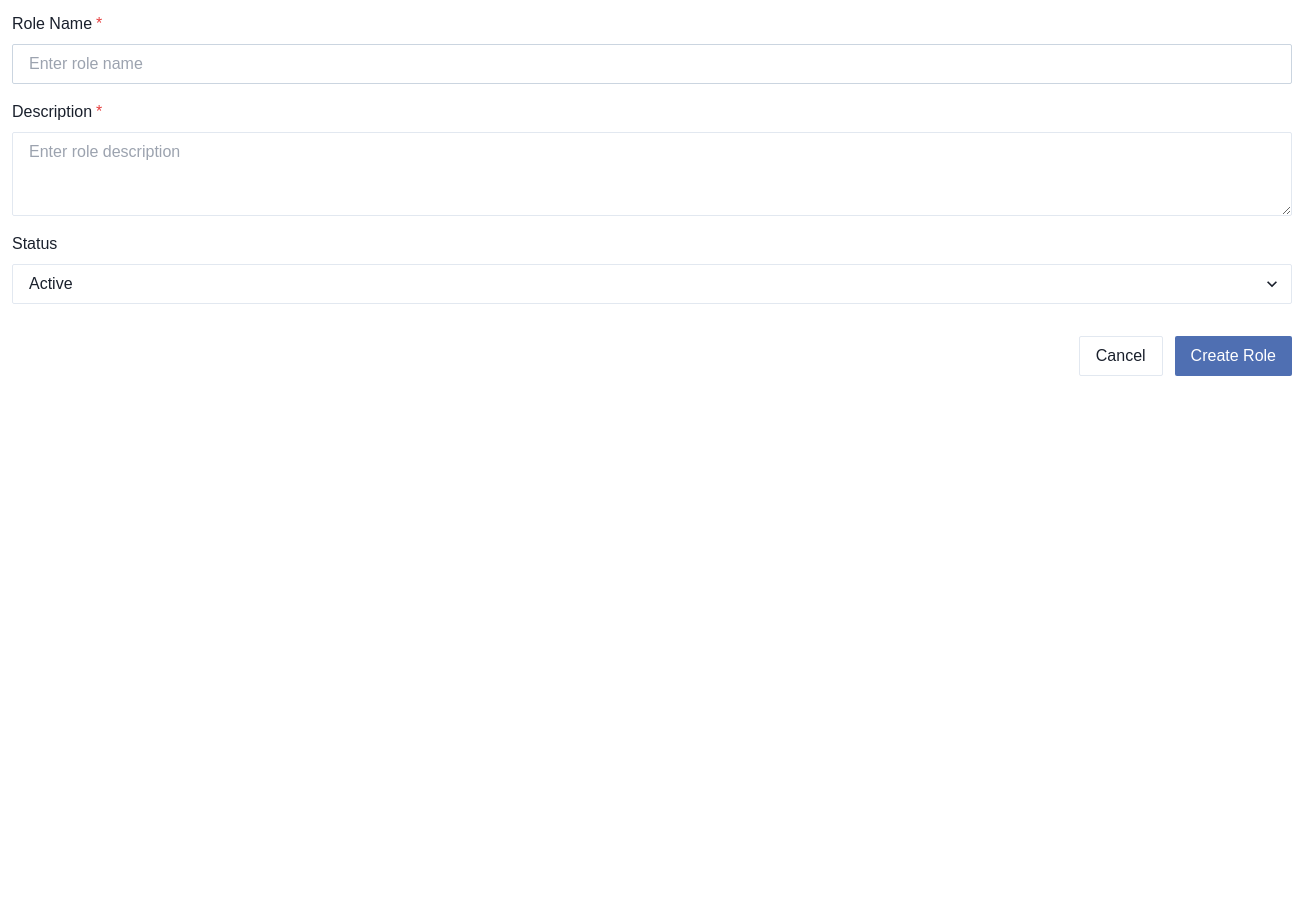
Test case: <RoleForm> › requires a name and description
Click the button "Create Role": (1233, 356) [1175,336,1292,376]
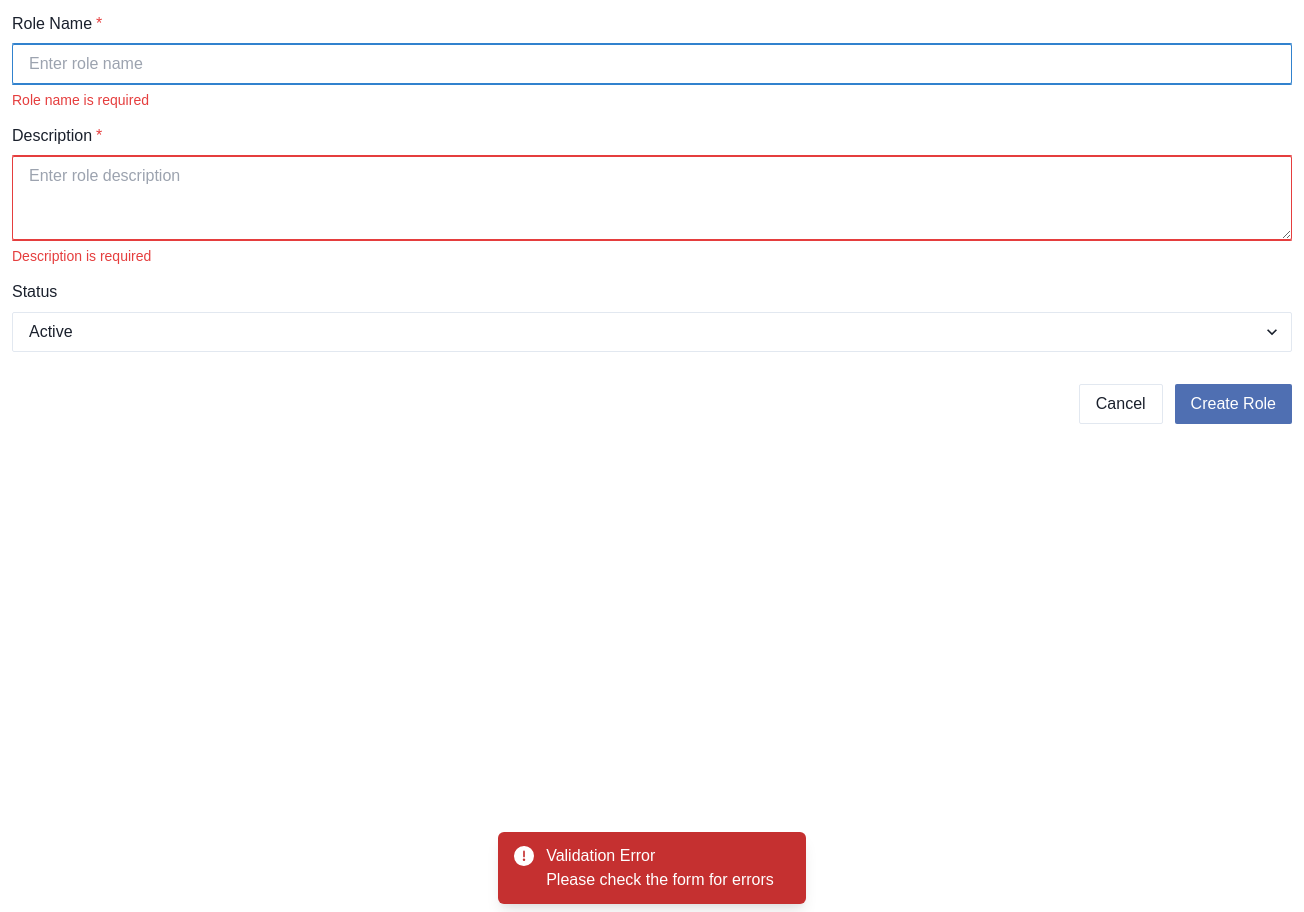
Check: the text "Role name is required" is shown, box [12,92,149,108]
Check: the text "Description is required" is shown, box [12,248,151,264]
